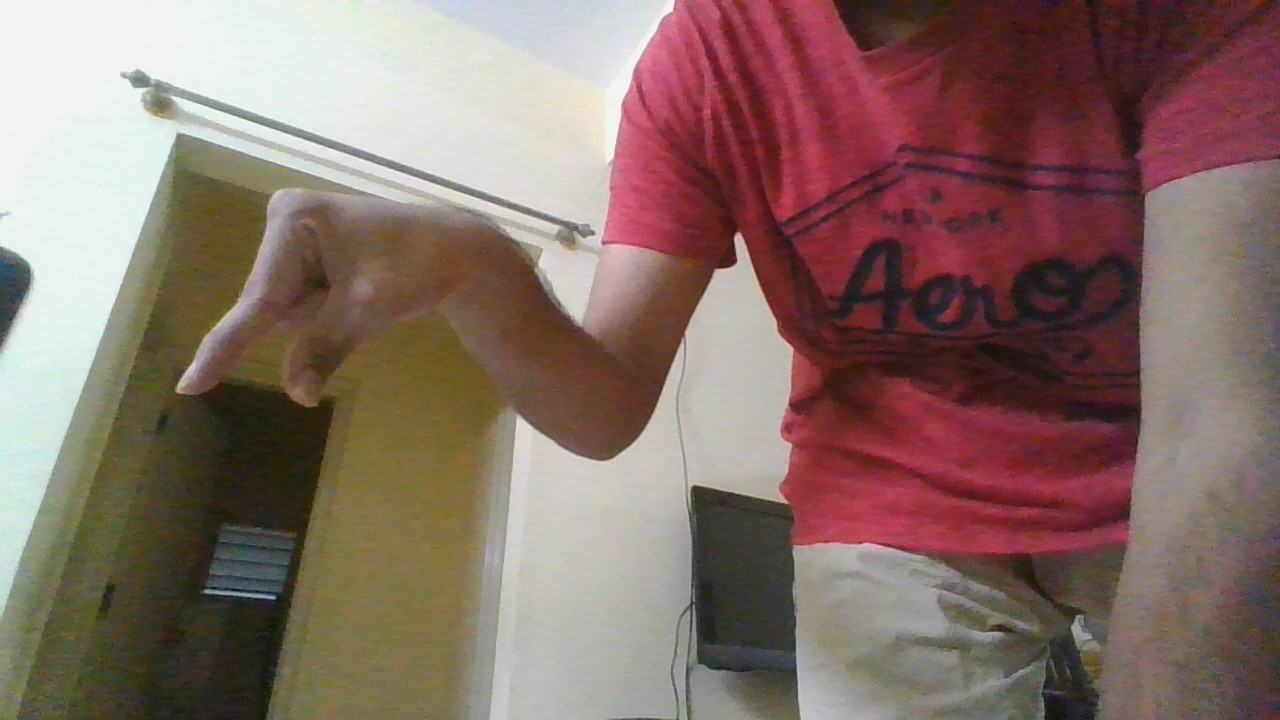q: (173, 183, 475, 414)
